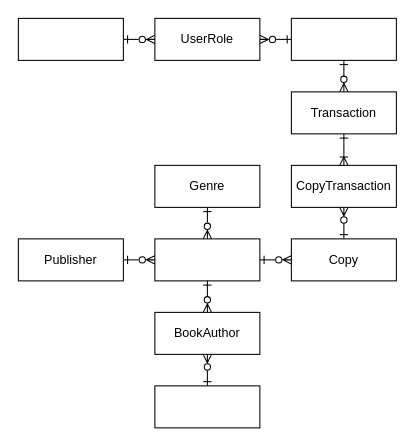
The diagram is 415 pixels wide and 446 high, and some of its shapes have lost their labels. The centre of each missing label's shape, as x and y in pixels:
"Author" belongs at (x=207, y=406).
"Book" belongs at (x=207, y=259).
"Role" belongs at (x=70, y=38).
"User" belongs at (x=343, y=38).
